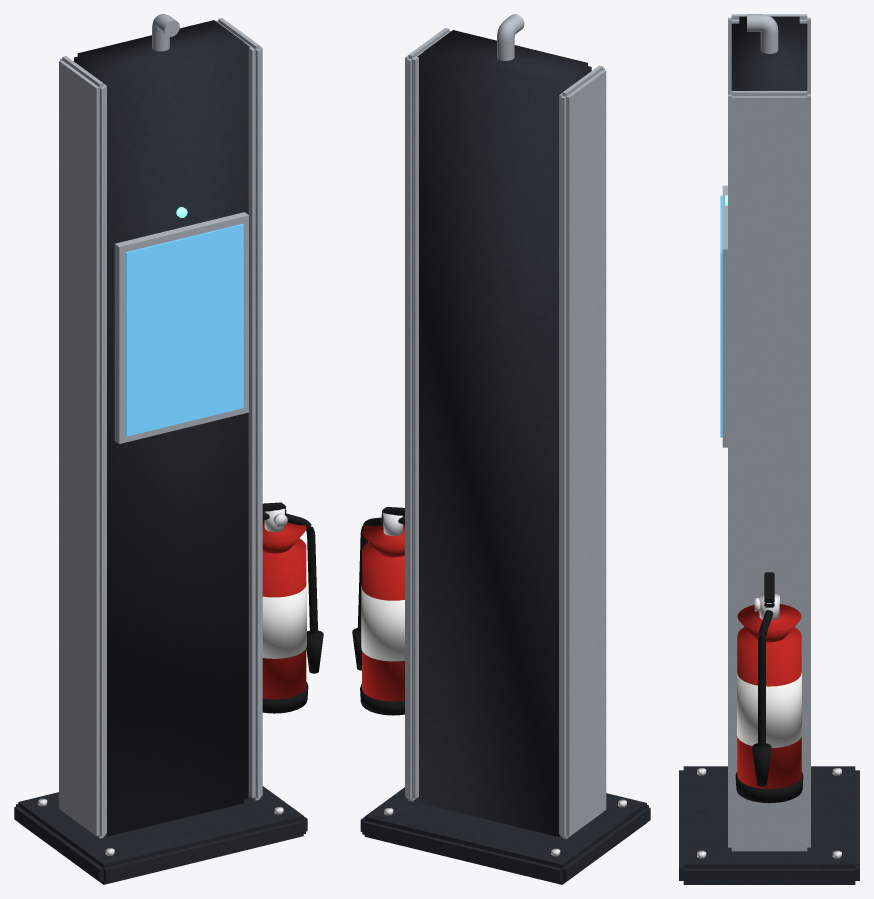
Rendered from decor_cctv_monitor.glb.
3 views of the same model, side by side, from view 1: azimuth 30°, elevation 25°; view 2: azimuth 150°, elevation 25°; view 3: azimuth 270°, elevation 25° (orthographic).
Visible parts, largest first — view 1: DecorCctv; view 2: DecorCctv; view 3: DecorCctv.
Part boxes in pixels (left/top/right/bottom): DecorCctv: left=14, top=14, right=323, bottom=884; DecorCctv: left=352, top=14, right=650, bottom=884; DecorCctv: left=679, top=14, right=859, bottom=884.
Size of the model in its own units: 0.8053 by 2.4 by 0.48.
Materials: 8 (4 with a texture image).
